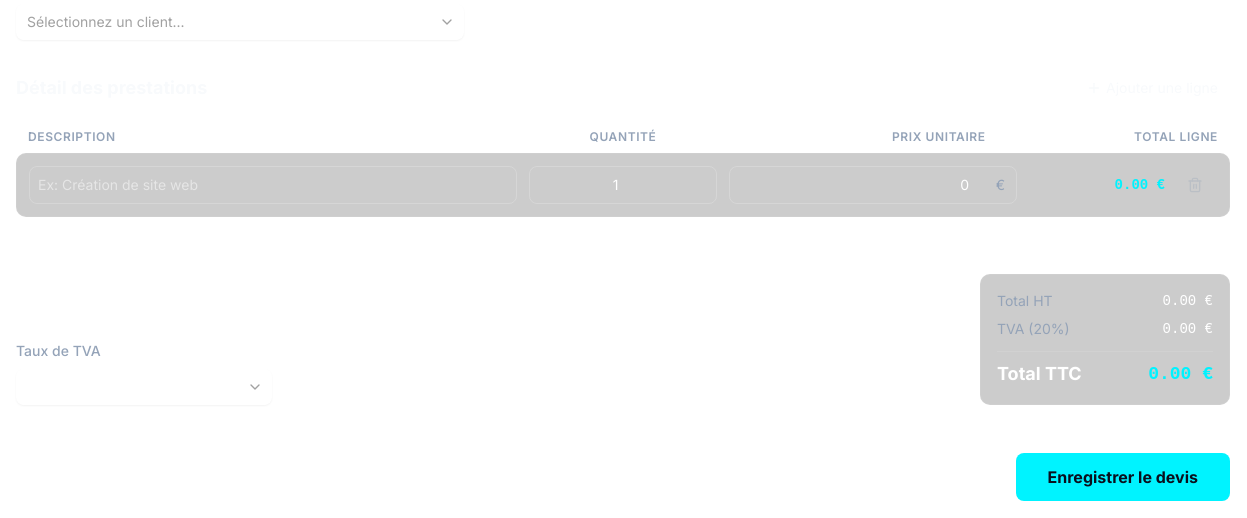
Test case: Composant: QuoteForm › doit mettre à jour le total TTC en temps réel
The width and height of the screenshot is (1247, 518).
On remplit le prix et la quantité
Type "1000" into the 2nd number field with placeholder "0.00" at (873, 185), box [729,166,1017,204]
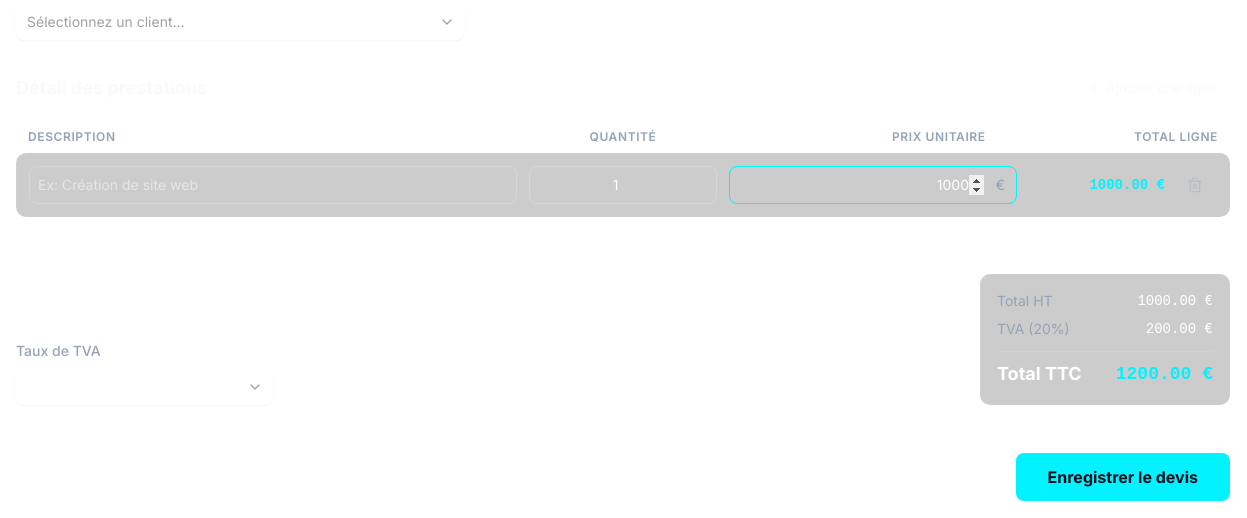
expect the text "1200.00 €" is shown: met, box [1116,360,1213,388]
